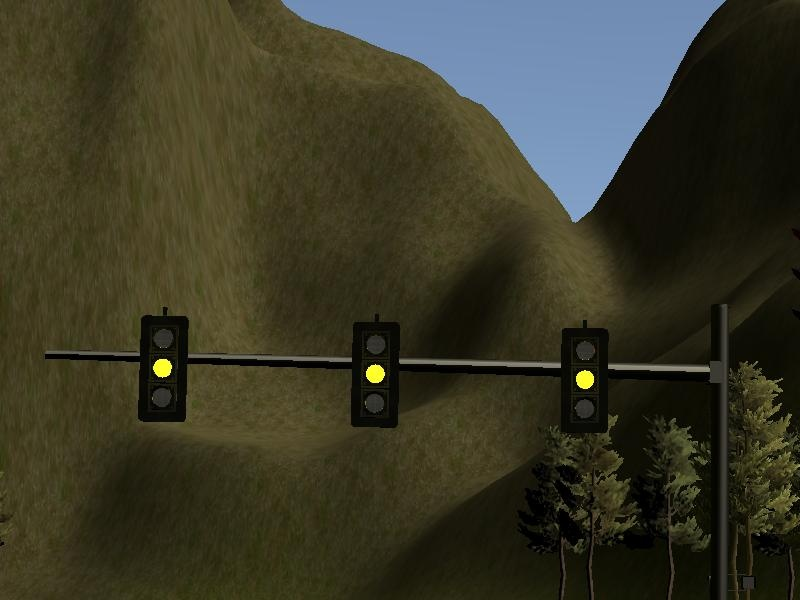YELLOW: (556, 324, 609, 438), (349, 317, 402, 431), (135, 309, 188, 423)
